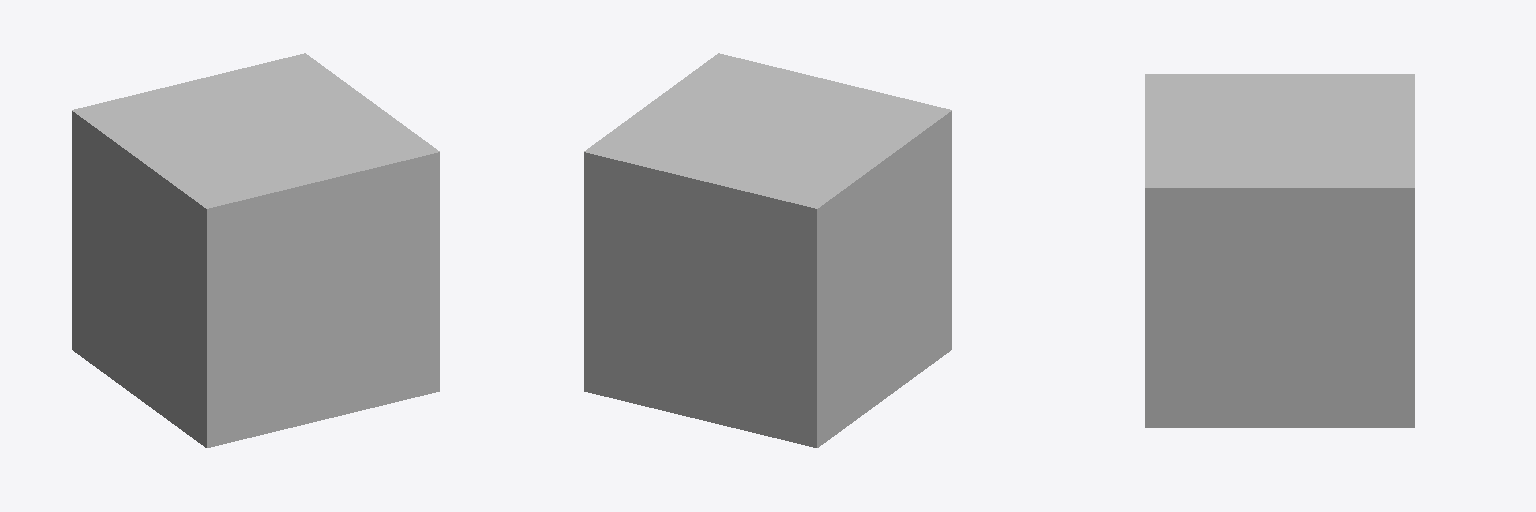
The model's file is original-7.obj.
The picture shows the model from 3 angles: view 1: azimuth 30°, elevation 25°; view 2: azimuth 150°, elevation 25°; view 3: azimuth 270°, elevation 25°; orthographic projection.
Visible parts, largest first — view 1: leg_base1/leg_base/mesh20/mesh20-geometry#mesh20-geometry; view 2: leg_base1/leg_base/mesh20/mesh20-geometry#mesh20-geometry; view 3: leg_base1/leg_base/mesh20/mesh20-geometry#mesh20-geometry.
Part boxes in pixels (left/top/right/bottom): leg_base1/leg_base/mesh20/mesh20-geometry#mesh20-geometry: left=72, top=53, right=439, bottom=447; leg_base1/leg_base/mesh20/mesh20-geometry#mesh20-geometry: left=584, top=53, right=951, bottom=447; leg_base1/leg_base/mesh20/mesh20-geometry#mesh20-geometry: left=1145, top=74, right=1414, bottom=427.
Bounding box in the file's own units: 0.1361 × 0.1389 × 0.1361.